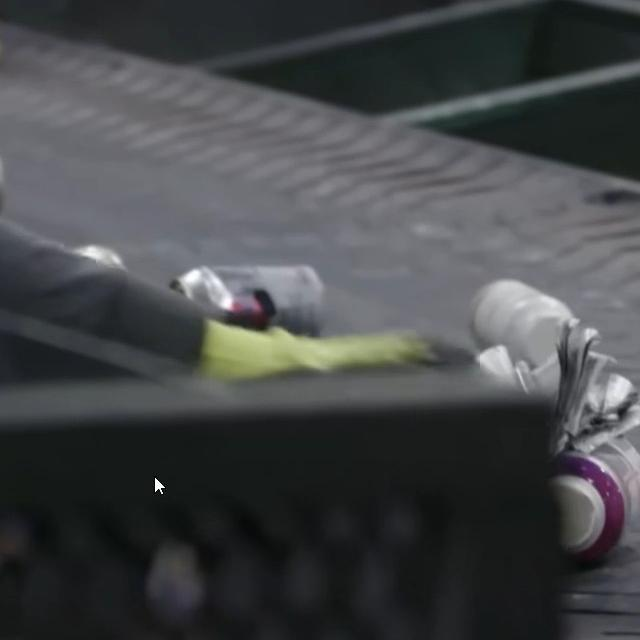metal: (142, 250, 383, 330), (0, 139, 39, 214)
plastic: (467, 241, 635, 393), (524, 383, 640, 578)
